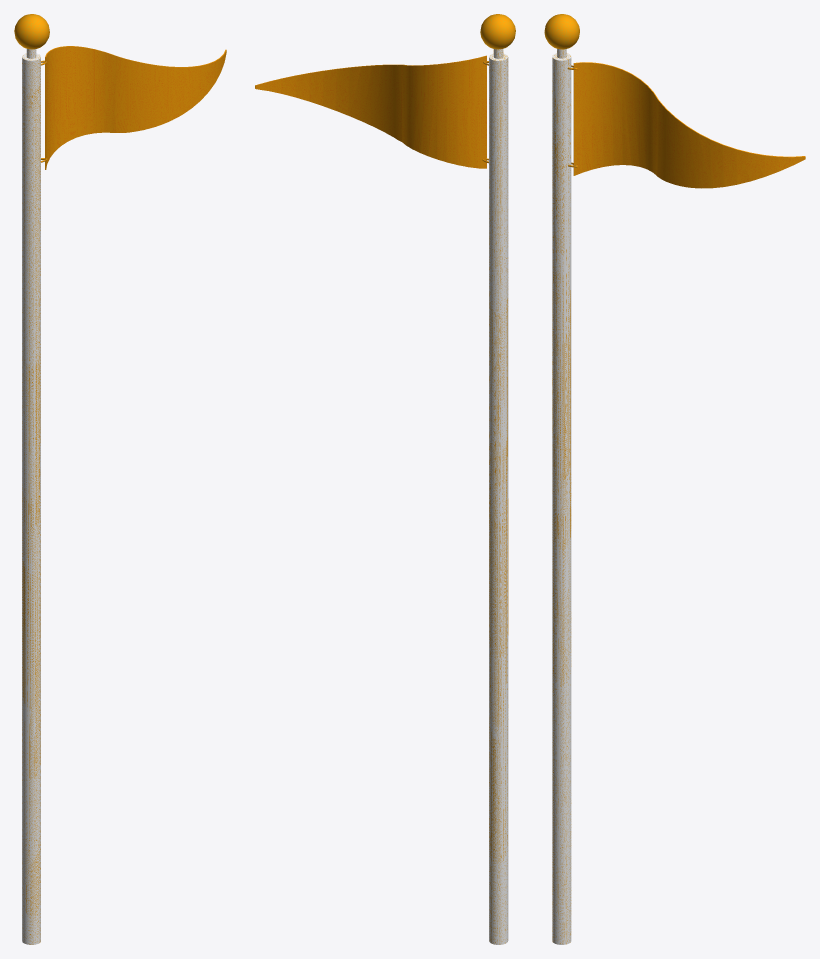
Rendered from bandera.dae.
3 views of the same model, side by side, from view 1: azimuth 30°, elevation 25°; view 2: azimuth 150°, elevation 25°; view 3: azimuth 330°, elevation 25° (orthographic).
Parts seen in each view (by area): view 1: Component_24, group_1, Simple_sphere_02; view 2: Component_24, group_1, Simple_sphere_02; view 3: Component_24, group_1, Simple_sphere_02.
Part boxes in pixels (x1,y1,x2,y2): Component_24: (22, 53, 40, 944); group_1: (45, 46, 226, 169); Simple_sphere_02: (14, 14, 49, 49); Component_24: (489, 53, 508, 944); group_1: (255, 55, 486, 168); Simple_sphere_02: (480, 14, 515, 49); Component_24: (552, 53, 571, 944); group_1: (573, 62, 805, 188); Simple_sphere_02: (544, 14, 579, 49).
Size of the model in its own units: 15.7 by 3.9 by 59.25.
